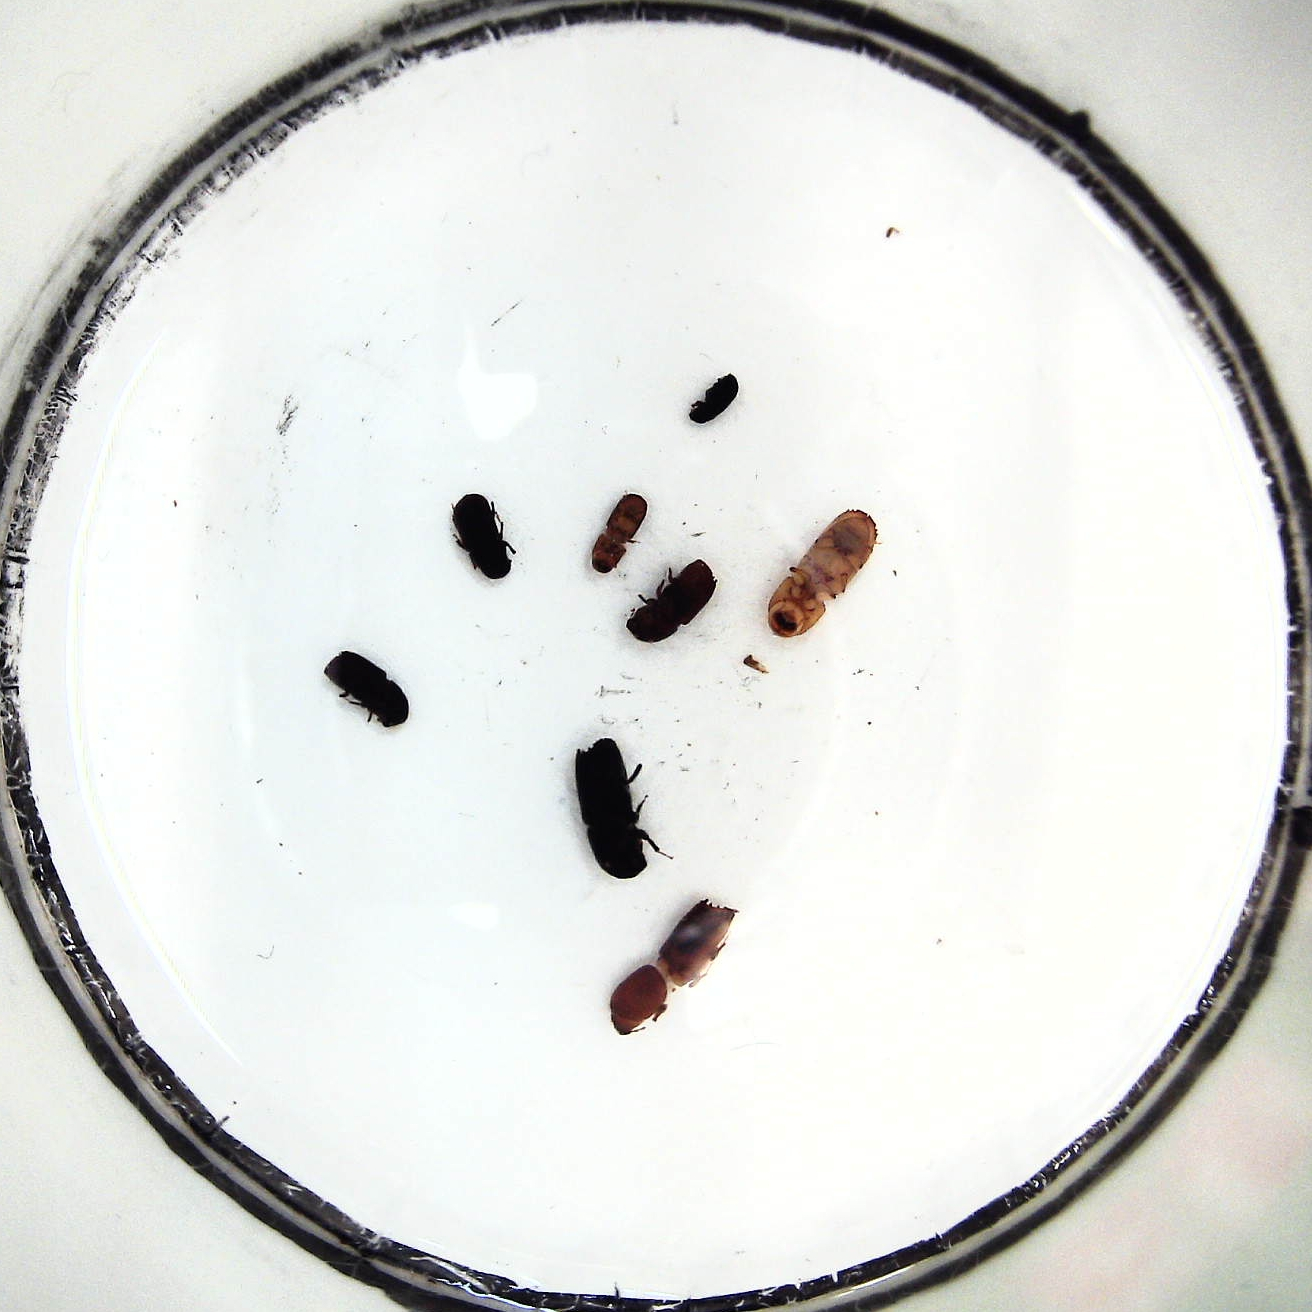Boerner: (604, 896, 735, 1039), (765, 503, 881, 640), (572, 735, 652, 878)
Linnaeus: (626, 561, 717, 645), (324, 648, 411, 732)
acuminatus: (586, 489, 652, 578)
armandi: (455, 494, 511, 583)
coleoptera: (685, 371, 744, 427)
